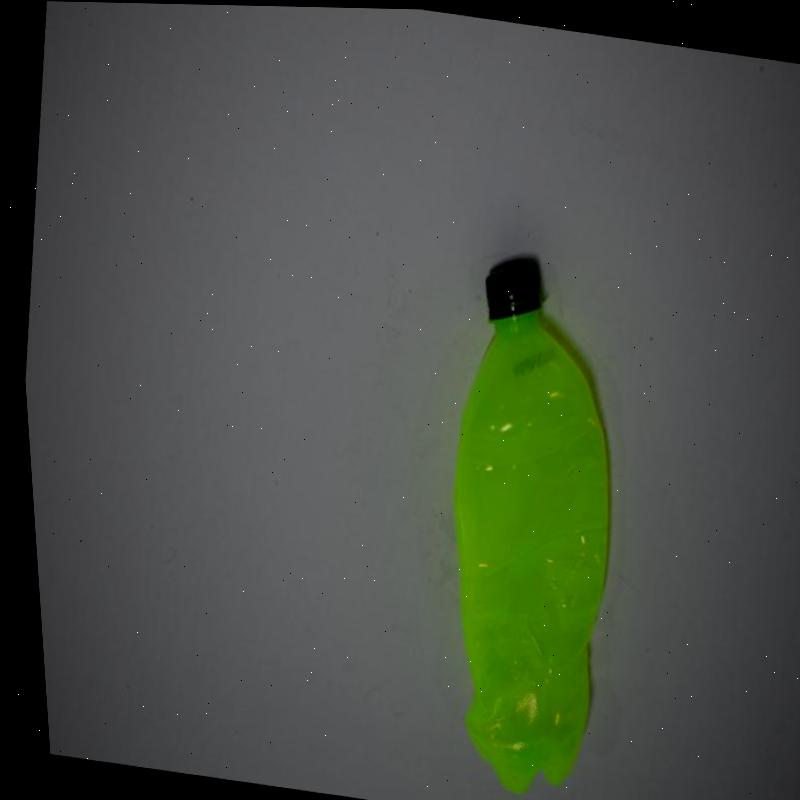botella: (403, 244, 652, 800)
